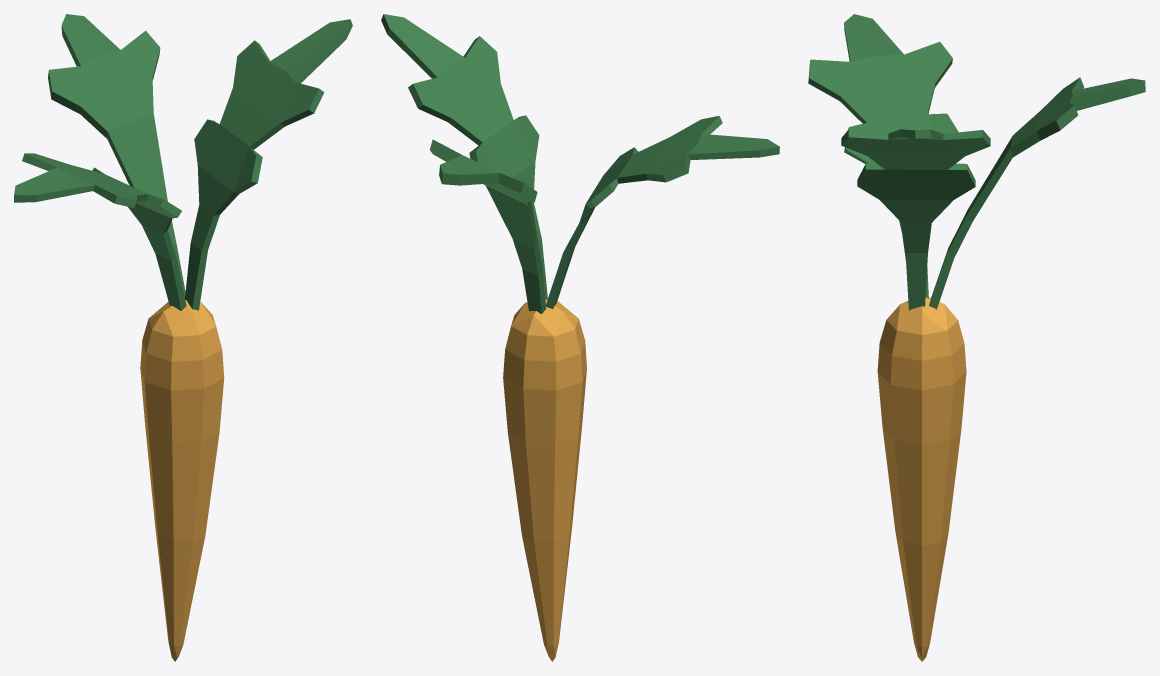
The model's file is Carrot_3-optimized.glb.
The picture shows the model from 3 angles, left to right: view 1: azimuth 30°, elevation 25°; view 2: azimuth 150°, elevation 25°; view 3: azimuth 270°, elevation 25°; orthographic projection. The views are drawn at different scales.
Visible parts, largest first — view 1: Carrot_3; view 2: Carrot_3; view 3: Carrot_3.
Boxes of the visible parts, x1,y1,x2,y2 form: Carrot_3: [14, 14, 352, 661]; Carrot_3: [381, 14, 779, 661]; Carrot_3: [808, 14, 1145, 661].
Size of the model in its own units: 0.3336 by 0.5215 by 0.2582.
